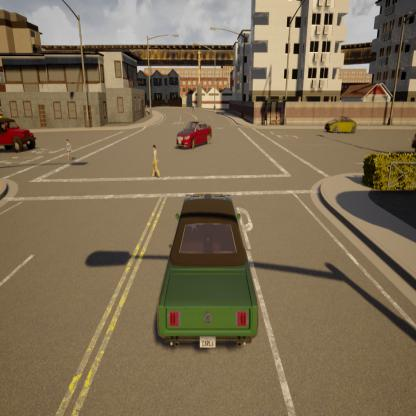Cars: (158, 195, 258, 350), (0, 117, 36, 153), (178, 121, 212, 147), (326, 116, 356, 134), (192, 100, 194, 113)
Pedestrian: (151, 144, 160, 178), (66, 138, 72, 164)
